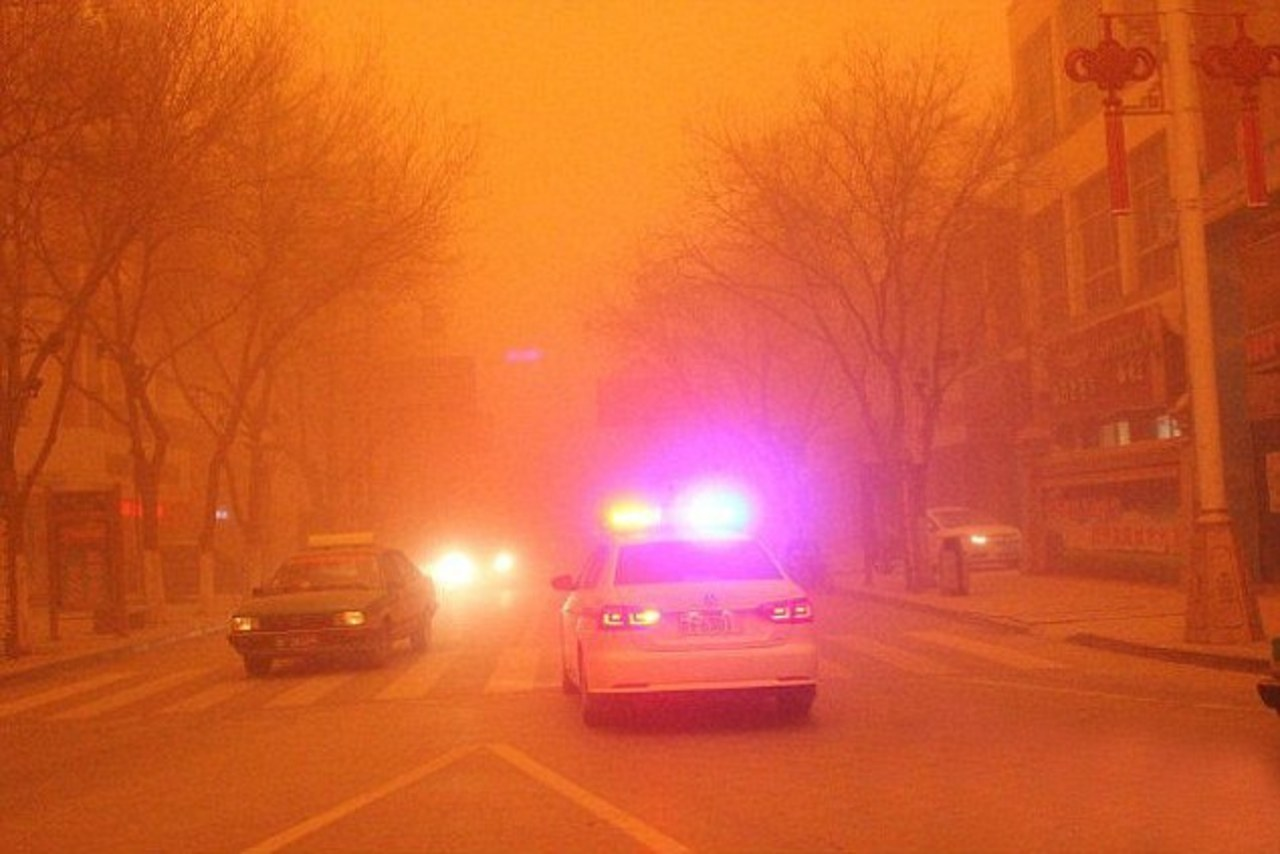car: (552, 532, 821, 729), (224, 543, 438, 676), (904, 498, 1023, 574), (423, 517, 529, 594)
